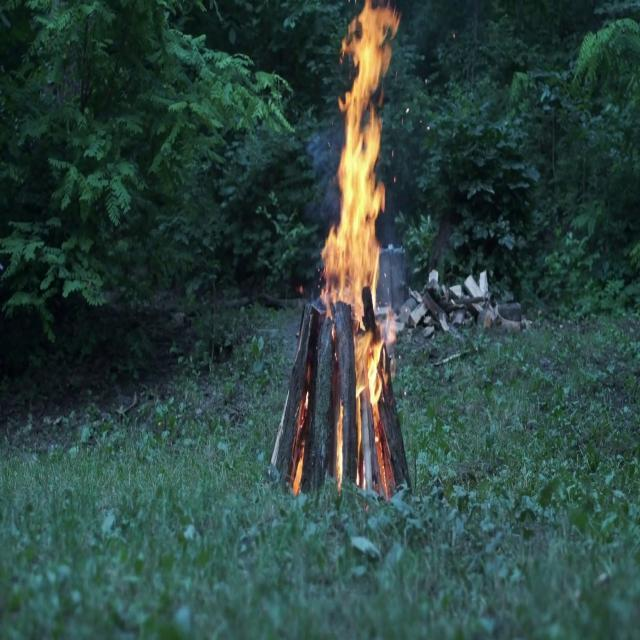Fire: (301, 0, 424, 446)
